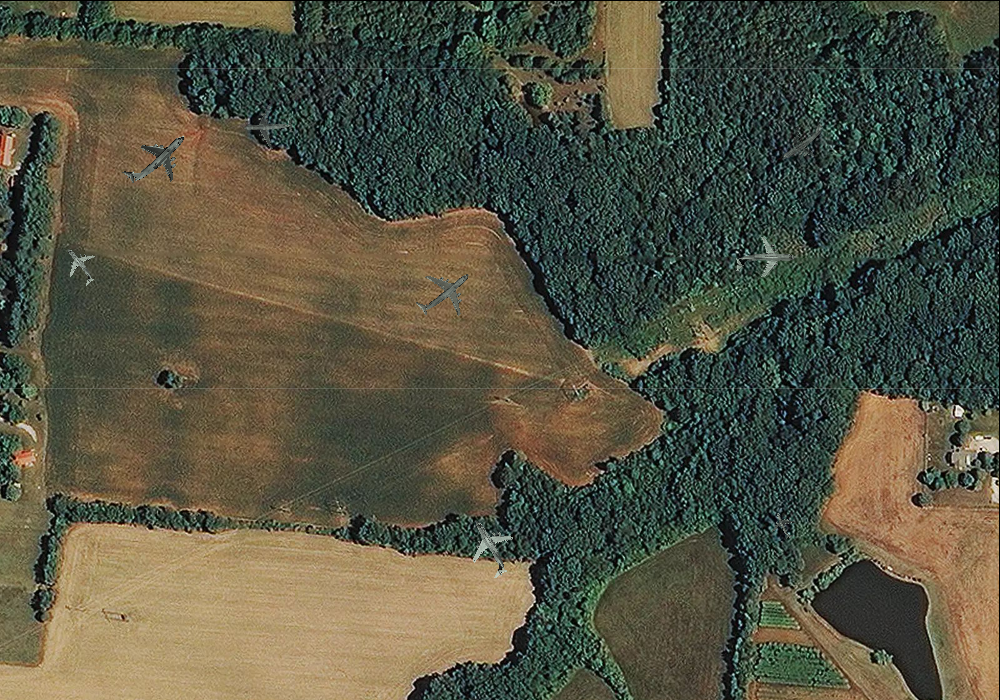plane: (109, 111, 201, 204), (402, 251, 485, 334), (450, 508, 528, 588), (768, 107, 837, 174), (734, 234, 796, 286), (51, 237, 107, 293), (242, 101, 294, 150), (765, 507, 801, 543)
